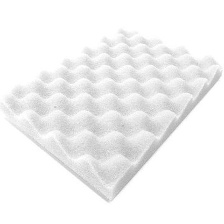foam_box: (0, 19, 224, 206)
